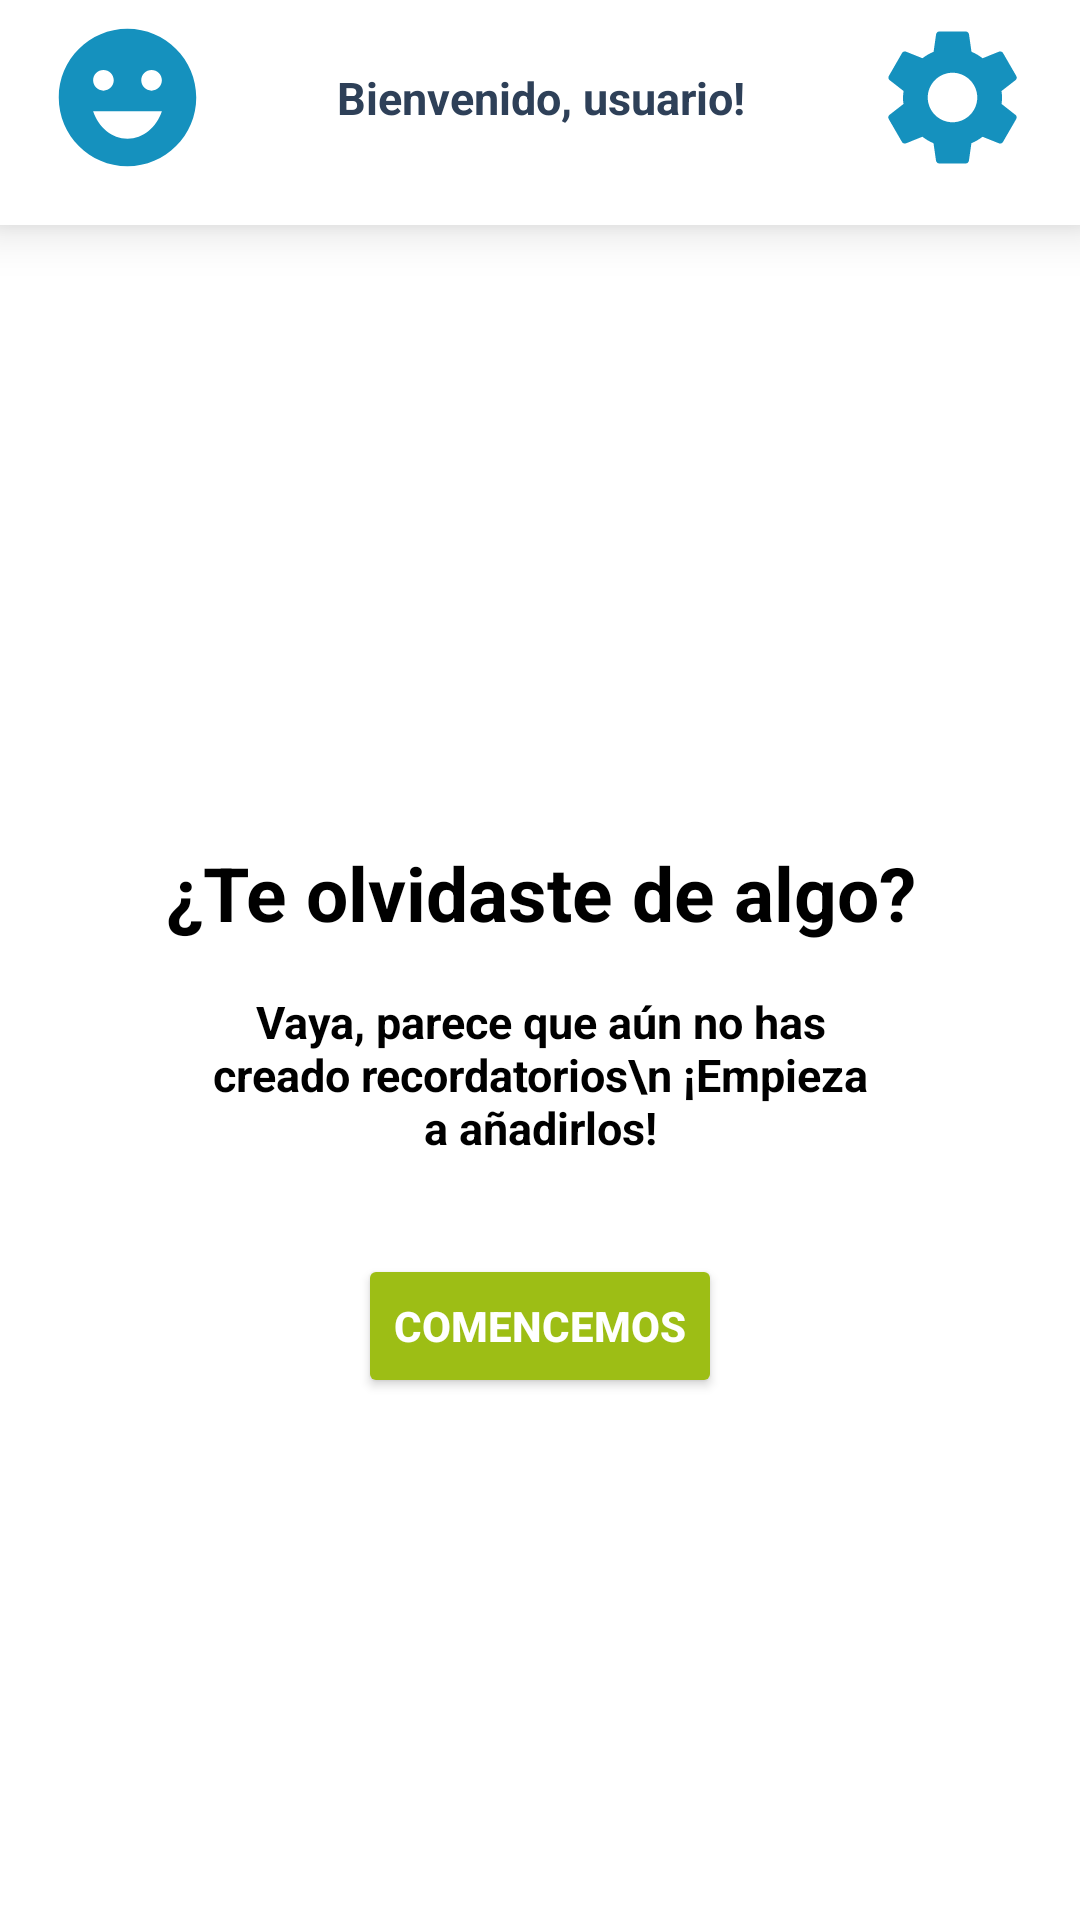

Screen size 1080px×1920px. Icon name, then its center in pixels as (x=x, y=y):
emoji emotions: (x=127, y=97)
settings: (x=952, y=97)
